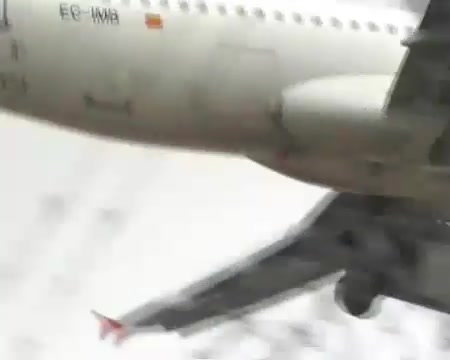aeroplane: (2, 1, 450, 360)
